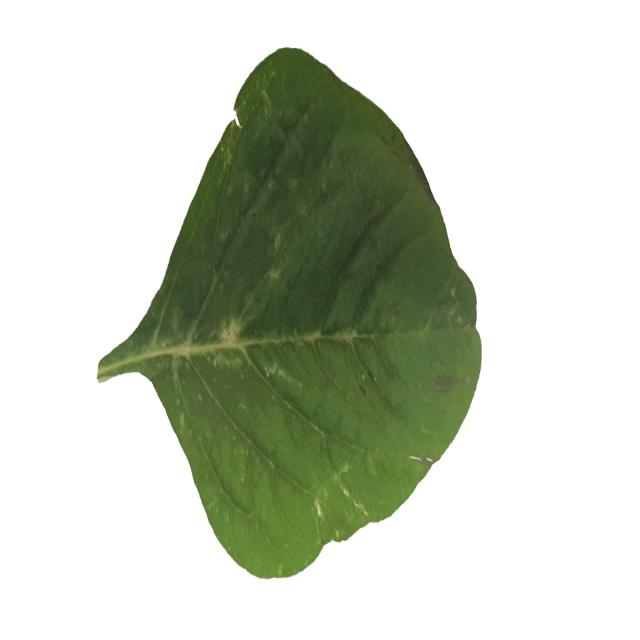Medicinal-Arive Dantu: (95, 46, 480, 580)
